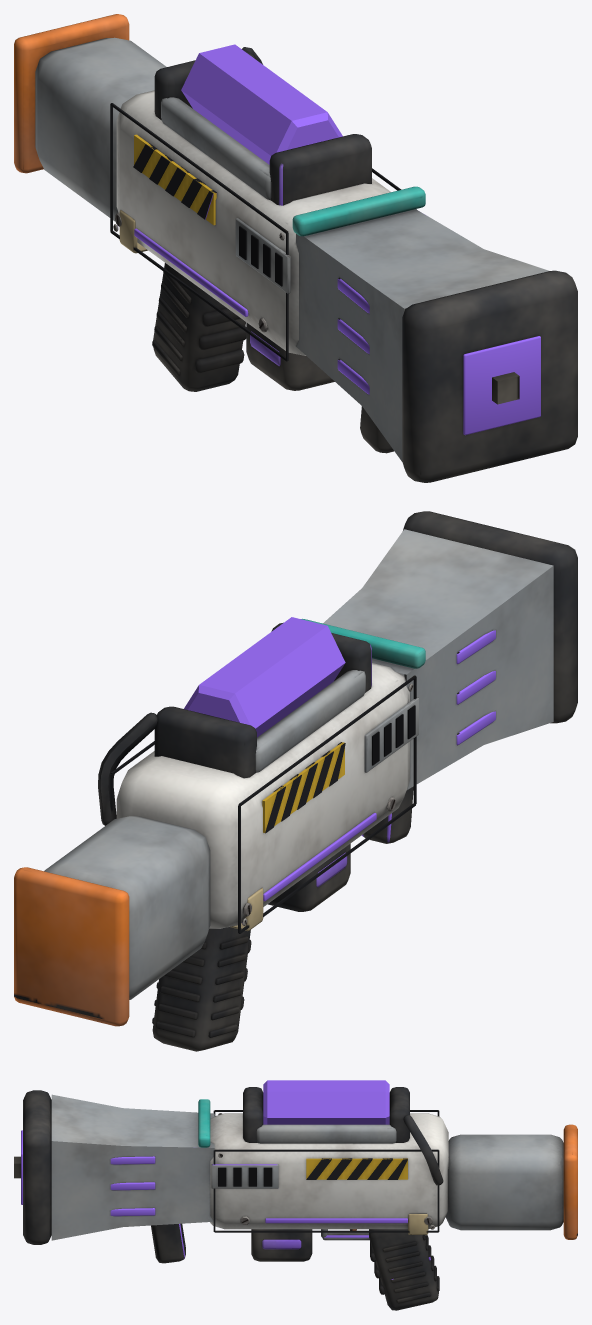
Rendered from heavy_blaster.fbx.
3 renders of one model, top to bottom at view 1: azimuth 30°, elevation 25°; view 2: azimuth 150°, elevation 25°; view 3: azimuth 270°, elevation 25°, orthographic. The views are drawn at different scales.
Parts seen in each view (by area): view 1: Handle, Glow, Mag, Muzzle; view 2: Handle, Glow, Mag; view 3: Handle, Glow, Mag.
Part boxes in pixels (bbox=[...]): Handle: bbox=[14, 14, 577, 482]; Glow: bbox=[134, 44, 540, 435]; Mag: bbox=[246, 322, 334, 390]; Muzzle: bbox=[492, 372, 519, 404]; Handle: bbox=[14, 511, 577, 1051]; Glow: bbox=[184, 617, 495, 901]; Mag: bbox=[268, 843, 350, 911]; Handle: bbox=[23, 1087, 577, 1310]; Glow: bbox=[21, 1080, 407, 1223]; Mag: bbox=[251, 1229, 312, 1261].
Size of the model in its own units: 0.6 by 1.19 by 2.77.
1 material, 1 textured.
